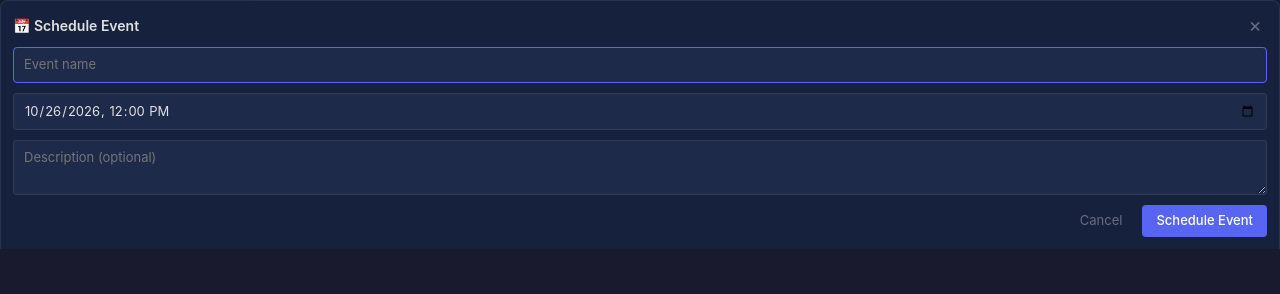
Test: EventForm › shows error when name is empty
Click the button "Schedule Event": x=1205, y=221 [1142,205,1267,236]
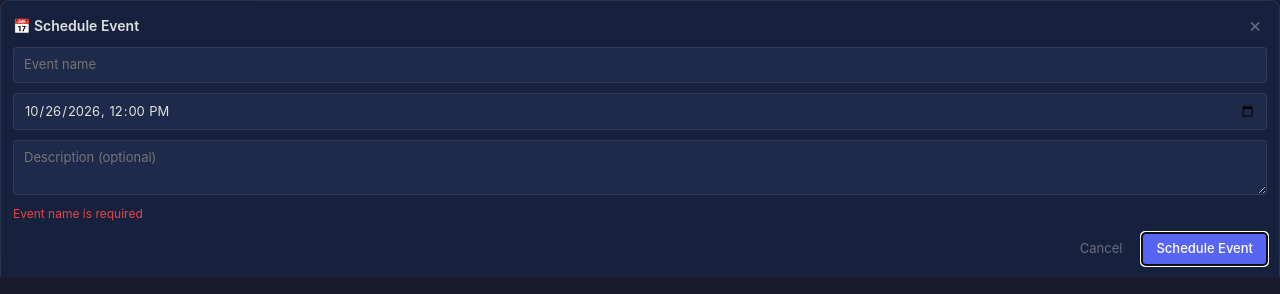
Check: the text "Event name is required" is shown, box [13,206,143,221]
